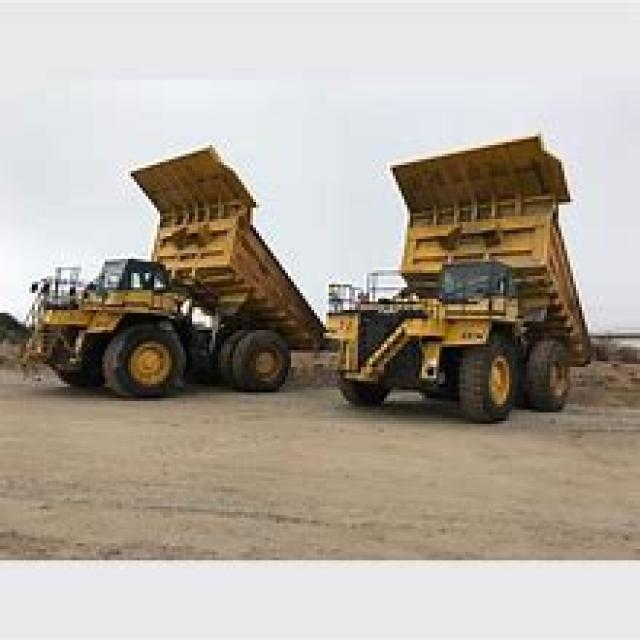dump_truck: (320, 131, 602, 424), (23, 137, 326, 398)
